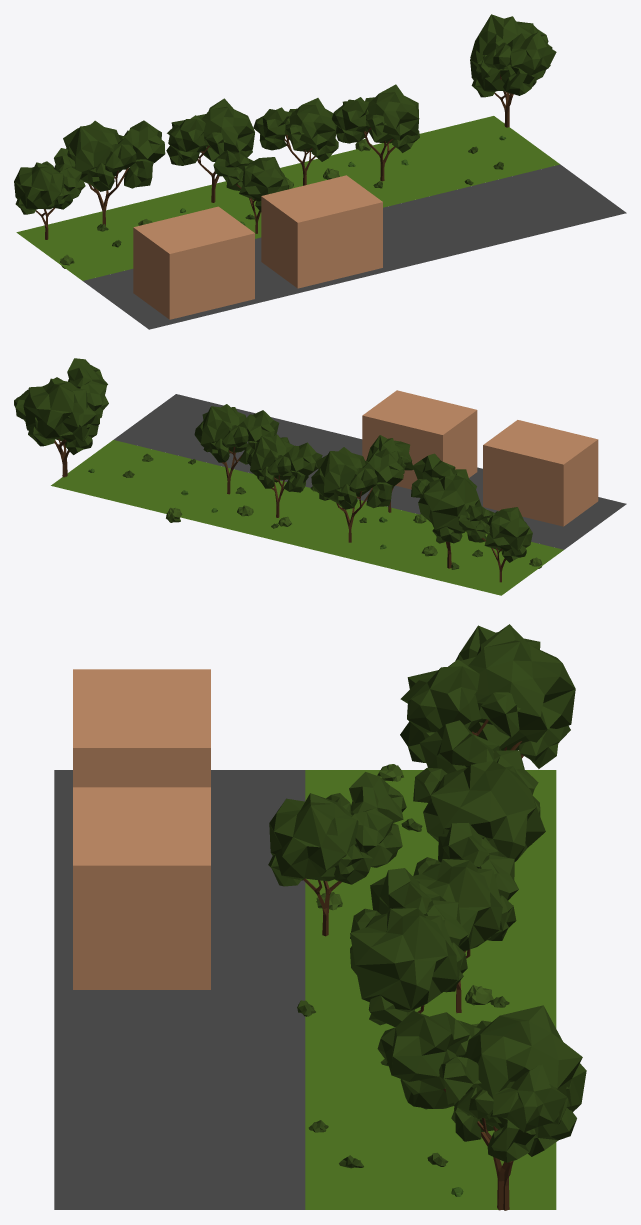
The model's file is nature_city_left1.glb.
3 renders of one model, top to bottom at view 1: azimuth 30°, elevation 25°; view 2: azimuth 150°, elevation 25°; view 3: azimuth 270°, elevation 25°, orthographic. The views are drawn at different scales.
Visible parts, largest first — view 1: ground.007, Scatter.020, Cube.020, Cube.019, Scatter.021; view 2: ground.007, Scatter.020, Cube.019, Cube.020, Scatter.021; view 3: ground.007, Scatter.020, Cube.020, Cube.019, Scatter.021.
Boxes of the visible parts, <box> form: ground.007: <box>16,116,626,329</box>; Scatter.020: <box>14,14,556,239</box>; Cube.020: <box>261,175,382,288</box>; Cube.019: <box>133,206,254,319</box>; Scatter.021: <box>60,135,505,268</box>; ground.007: <box>51,394,626,595</box>; Scatter.020: <box>14,358,532,582</box>; Cube.019: <box>483,420,598,526</box>; Cube.020: <box>362,390,477,489</box>; Scatter.021: <box>88,453,541,569</box>; ground.007: <box>54,770,556,1209</box>; Scatter.020: <box>268,624,586,1210</box>; Cube.020: <box>73,787,210,989</box>; Cube.019: <box>73,669,210,787</box>; Scatter.021: <box>297,764,509,1196</box>.
Bounding box in the file's own units: 62.95 × 12.82 × 28.63.
